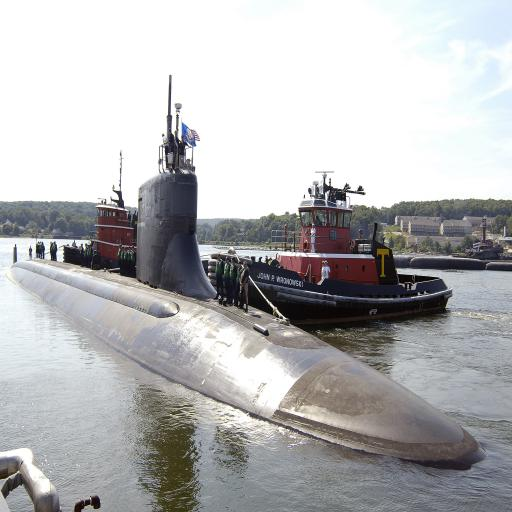submarine: (8, 71, 492, 483)
